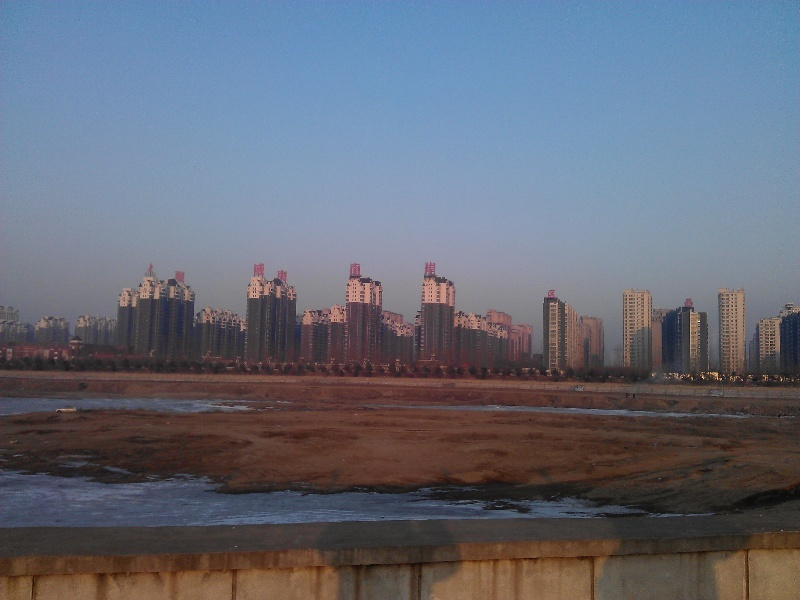text: (277, 270, 288, 283), (548, 289, 560, 300), (177, 271, 186, 284), (257, 263, 265, 277), (353, 263, 361, 277), (425, 262, 432, 276), (433, 262, 437, 276), (689, 298, 694, 308), (684, 298, 688, 308), (254, 263, 256, 277), (350, 263, 352, 277)
